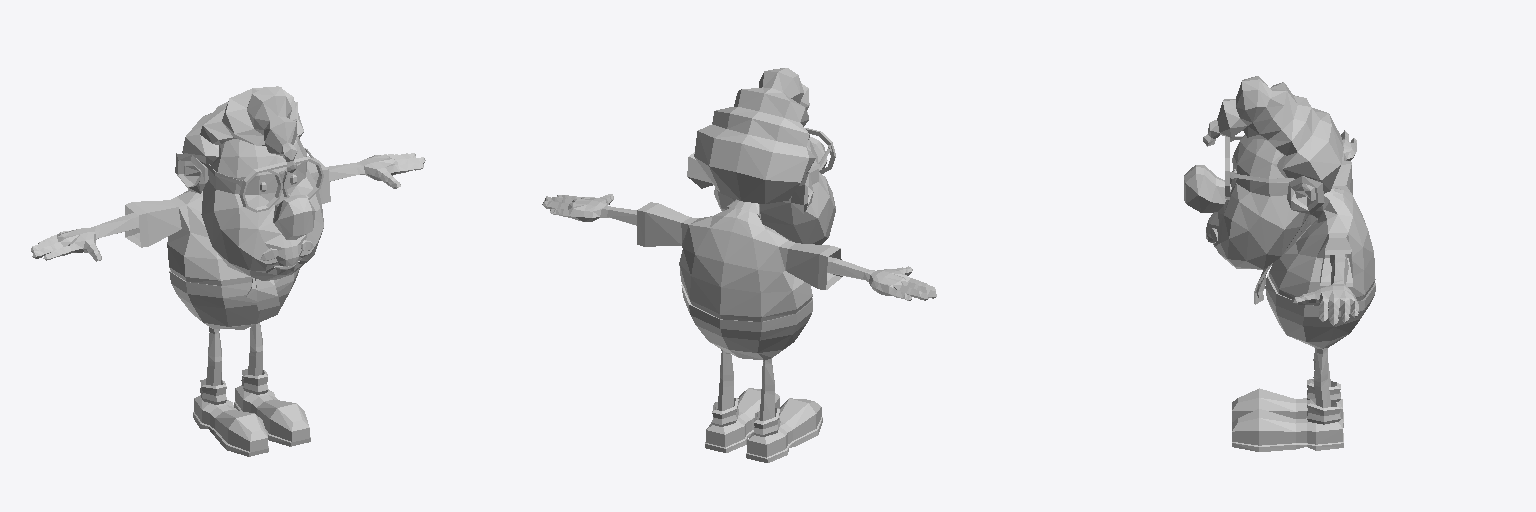
The model's file is mrwheezer.obj.
The picture shows the model from 3 angles: view 1: azimuth 30°, elevation 25°; view 2: azimuth 150°, elevation 25°; view 3: azimuth 270°, elevation 25°; orthographic projection.
Visible parts, largest first — view 1: Material_#30; view 2: Material_#30; view 3: Material_#30.
Boxes of the visible parts, x1=… form: Material_#30: x1=31, y1=86, x2=425, y2=456; Material_#30: x1=542, y1=68, x2=936, y2=462; Material_#30: x1=1184, y1=76, x2=1375, y2=451.
Bounding box in the file's own units: 17.49 × 15.01 × 7.42.